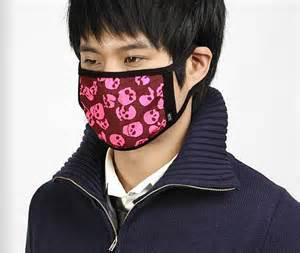OK: (80, 41, 192, 148)
